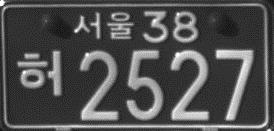2: (168, 48, 211, 123), (80, 50, 124, 121)
3: (134, 9, 172, 42)
5: (124, 48, 165, 124)
7: (212, 47, 256, 123)
8: (172, 8, 200, 42)
서울_O: (70, 9, 138, 41)
허: (16, 47, 64, 98)
